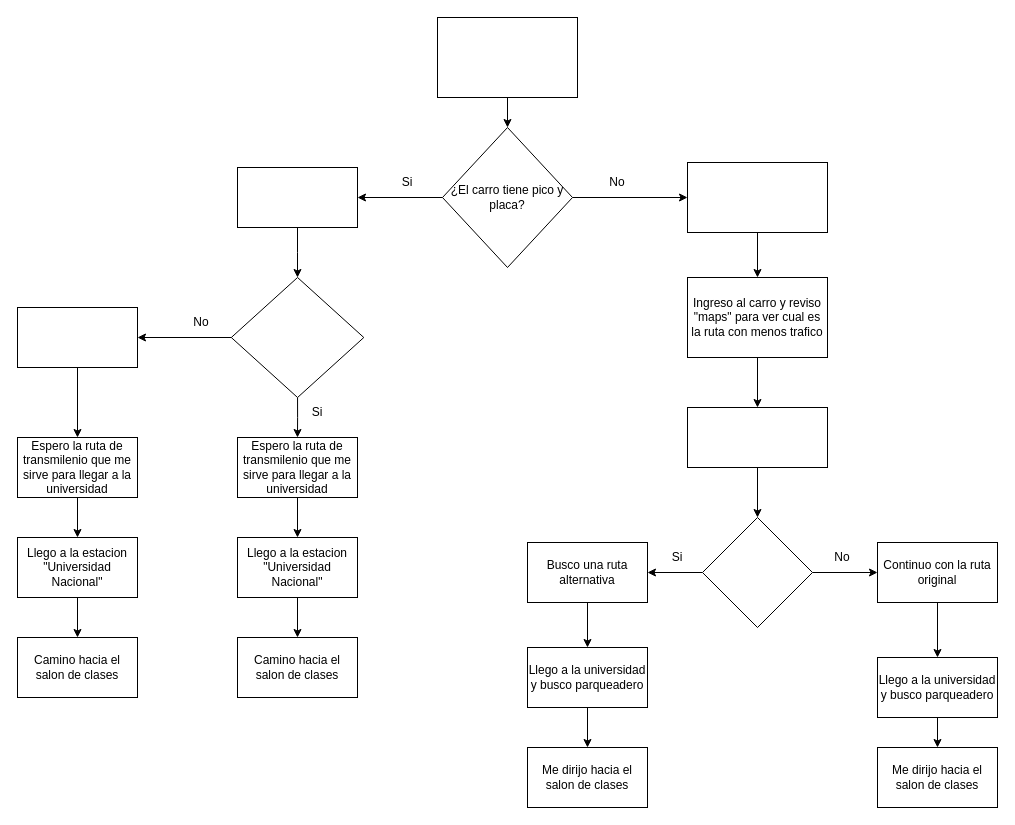
Image size: 1015x825. Some labels were removed from this diagram. Each missing label, with the box of its shape:
Camino hasta el parqueadero: (686, 162, 828, 232)
Camino hasta la estacion de transmilenio: (236, 166, 358, 228)
Enciendo el carro e inicio con el viaje: (686, 406, 828, 468)
Recargo la tarjeta: (16, 306, 138, 368)
Transporte hacia la universidad: (436, 16, 578, 98)
¿Hay mas trafico del esperado?: (702, 516, 812, 628)
¿Tengo saldo en la tarjeta de transmilenio?: (230, 276, 364, 398)
